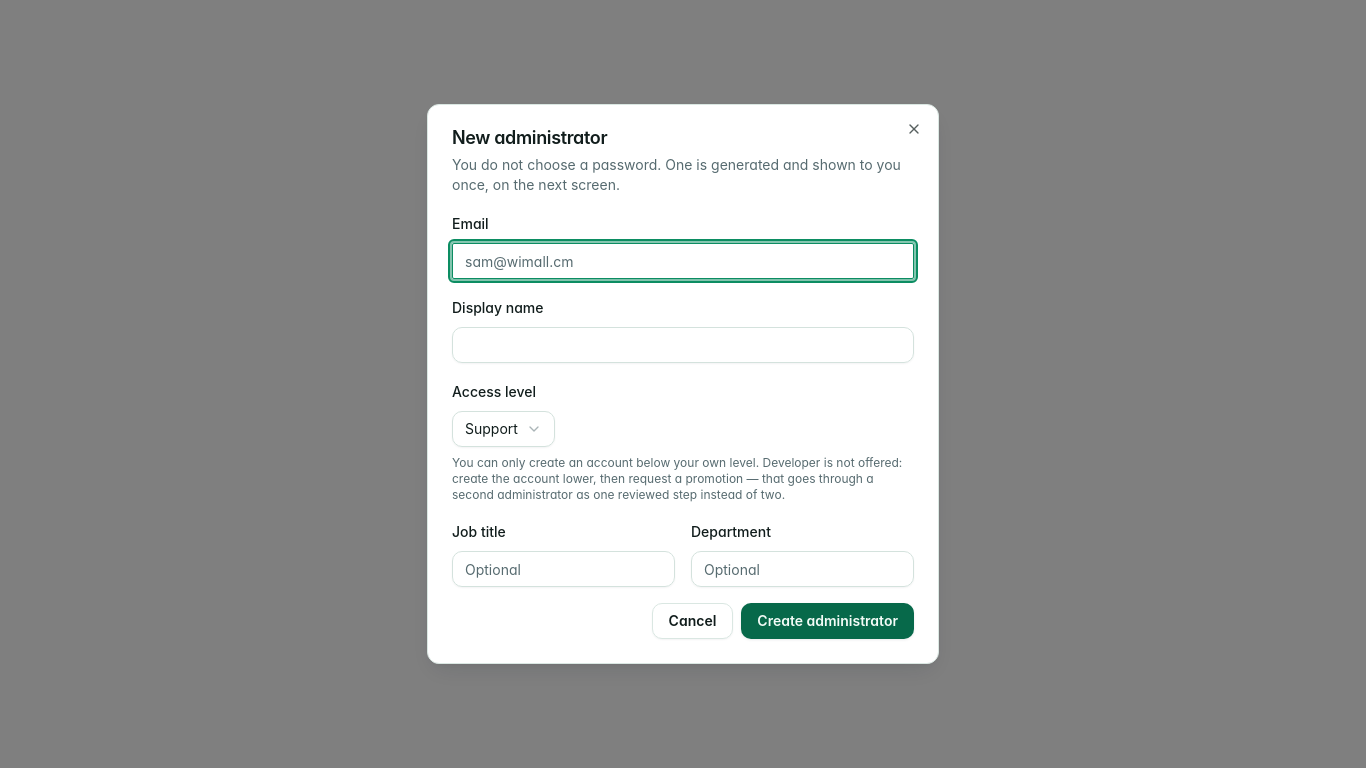
Test: CreateAdministratorDialog › never offers Developer, even to a Developer, and explains the absence
Click the dropdown named "access level".
click(503, 429)  # box [452, 411, 555, 447]
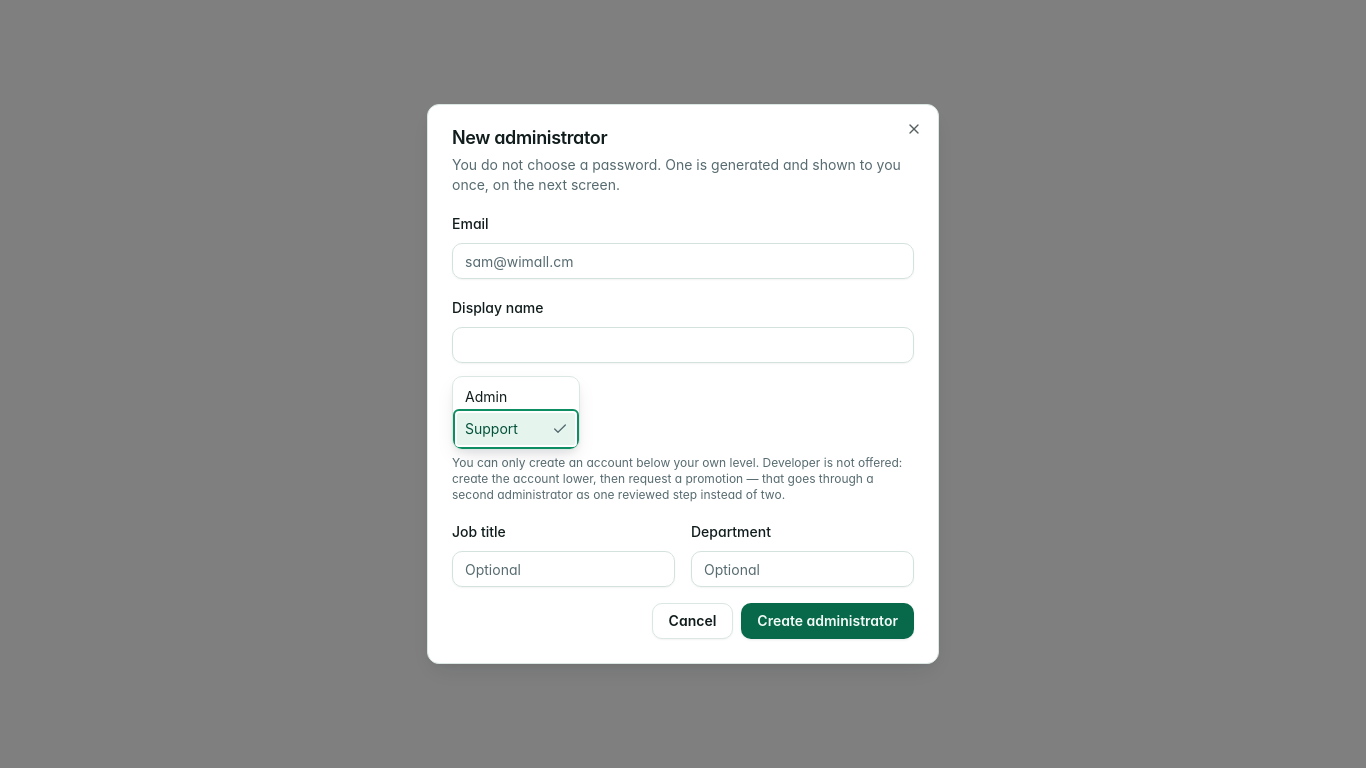
Expected: the option "Admin" is shown, [465, 388, 507, 405]
Expected: the option "Support" is shown, [457, 413, 575, 445]
